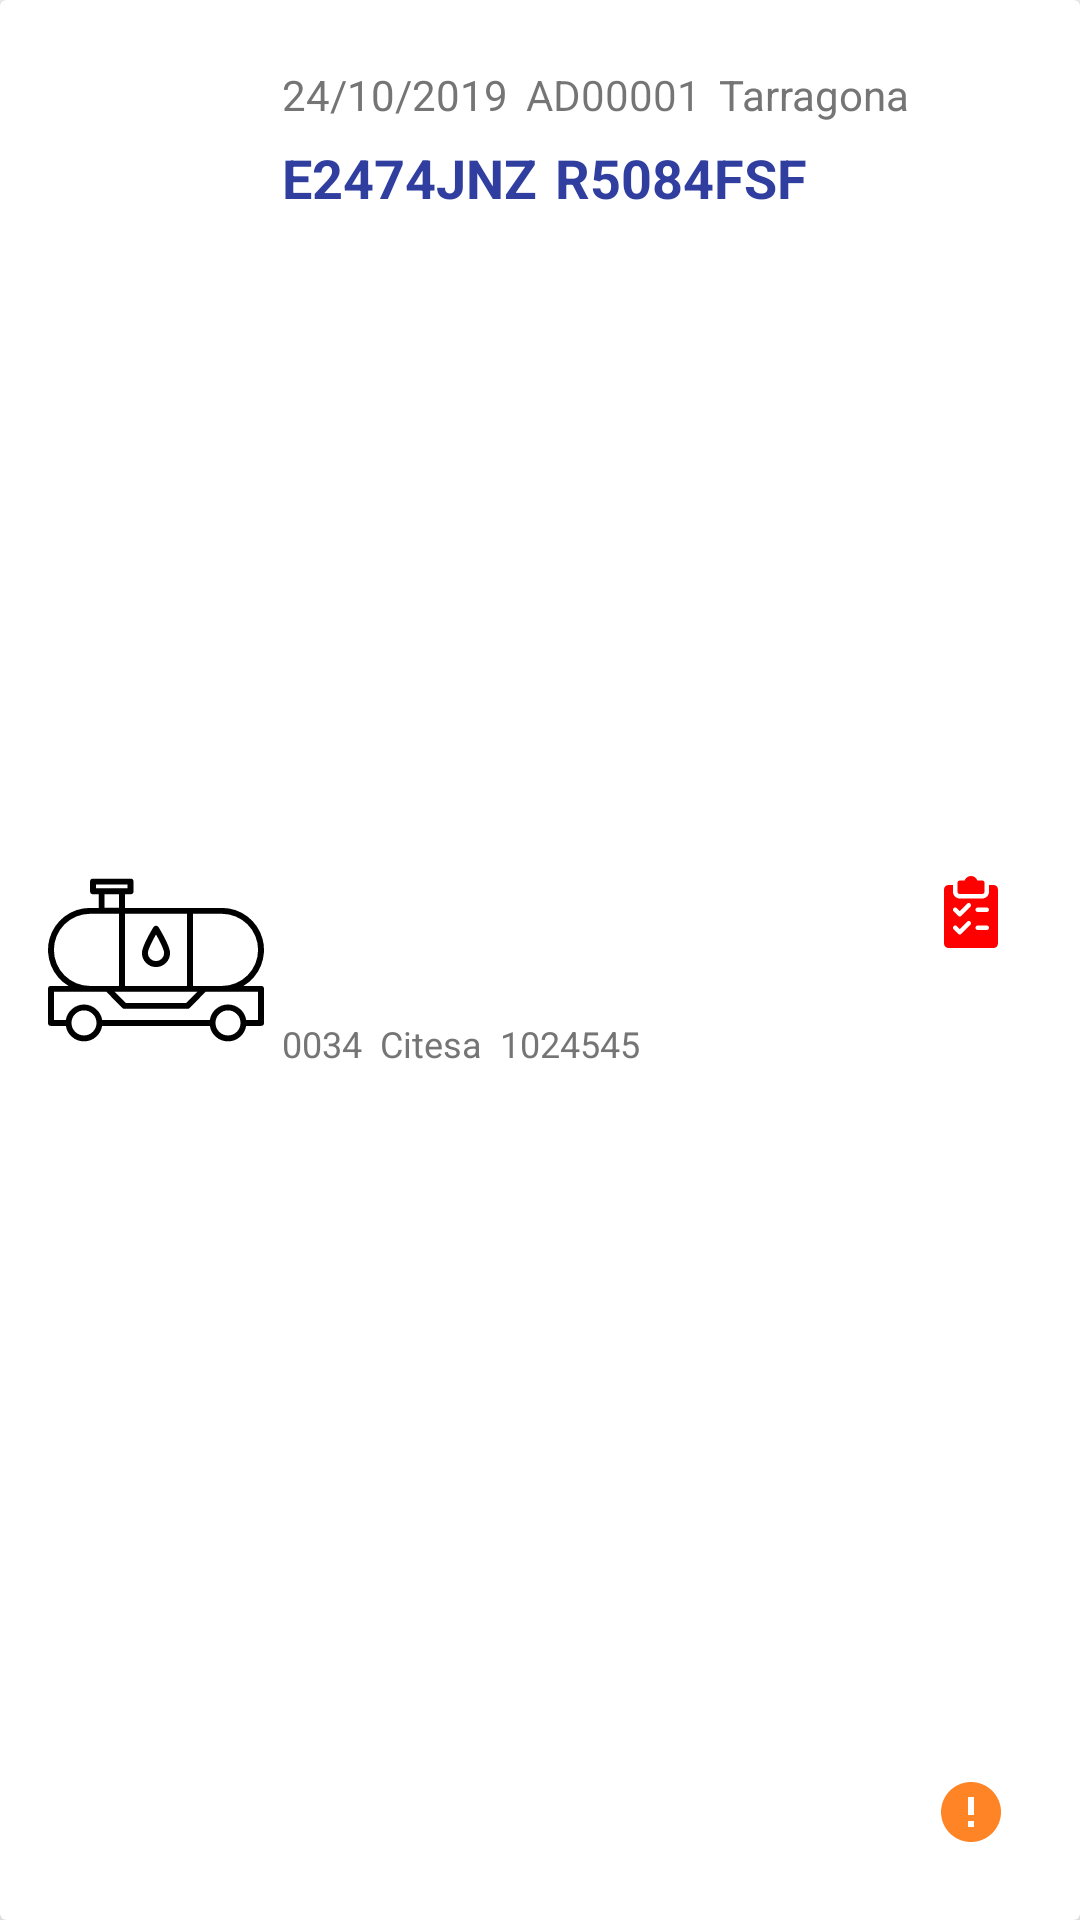

Screen size 1080x1920. Icon name, then its center in pixels as (x=x, y=y):
error: (x=971, y=1812)
oil tank: (x=156, y=960)
